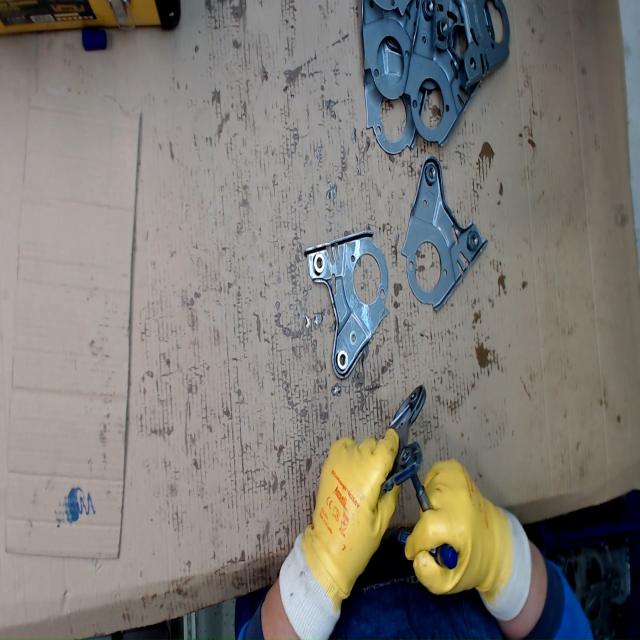hands: (301, 424, 404, 584), (401, 455, 506, 598)
